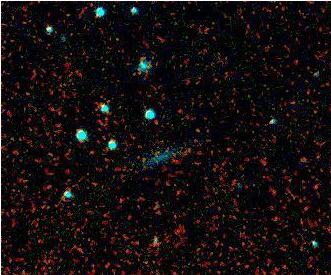star: (160, 166, 190, 196)
